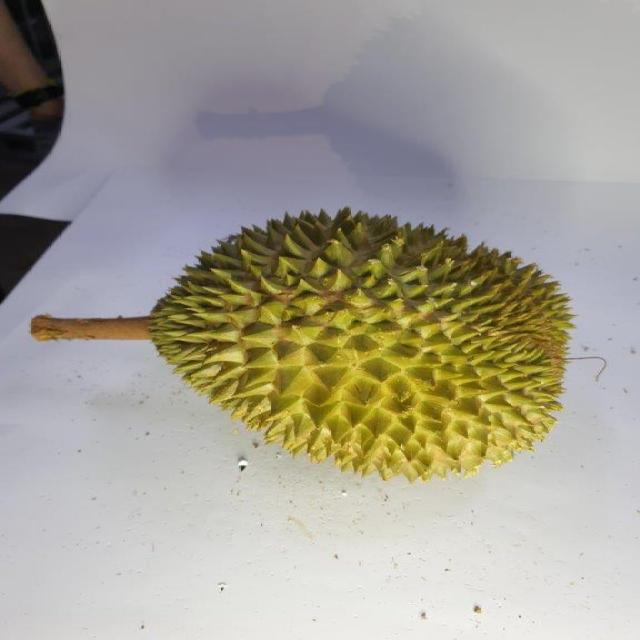immature: (143, 208, 569, 480)
